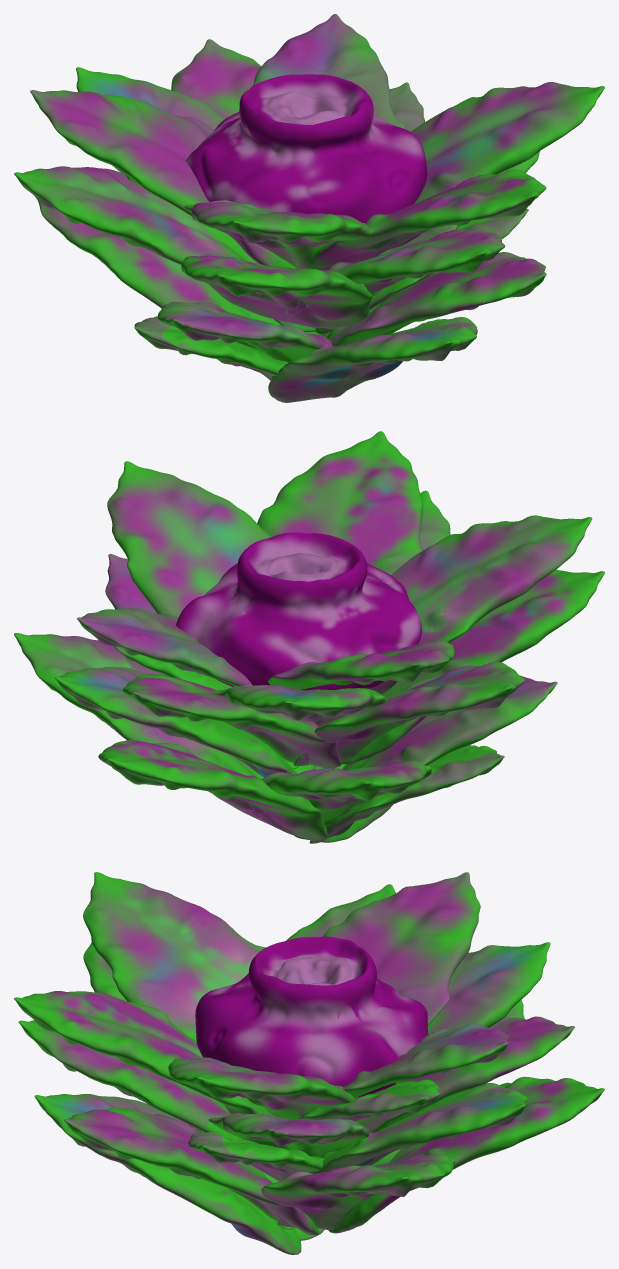
File: wildflowerVS2.fbx
The picture shows the model from 3 angles, top to bottom: view 1: azimuth 30°, elevation 25°; view 2: azimuth 150°, elevation 25°; view 3: azimuth 270°, elevation 25°; orthographic projection. The views are drawn at different scales.
Visible parts, largest first — view 1: Cube.002, Cube.001, Cube.007, Circle; view 2: Cube.002, Cube.001, Cube.007, Circle; view 3: Cube.002, Cube.007, Cube.001, Circle.
Boxes of the visible parts, x1,y1,x2,y2 form: Cube.002: (30, 14, 604, 270); Cube.001: (14, 39, 539, 334); Cube.007: (36, 198, 546, 402); Circle: (186, 74, 427, 223); Cube.002: (77, 431, 592, 724); Cube.001: (54, 490, 604, 777); Cube.007: (14, 633, 557, 843); Circle: (176, 532, 421, 690); Cube.002: (14, 872, 550, 1121); Cube.007: (34, 1000, 604, 1254); Cube.001: (18, 884, 574, 1181); Circle: (195, 936, 428, 1096).
Size of the model in its own units: 509 by 290 by 539.
4 materials, 4 textured.
